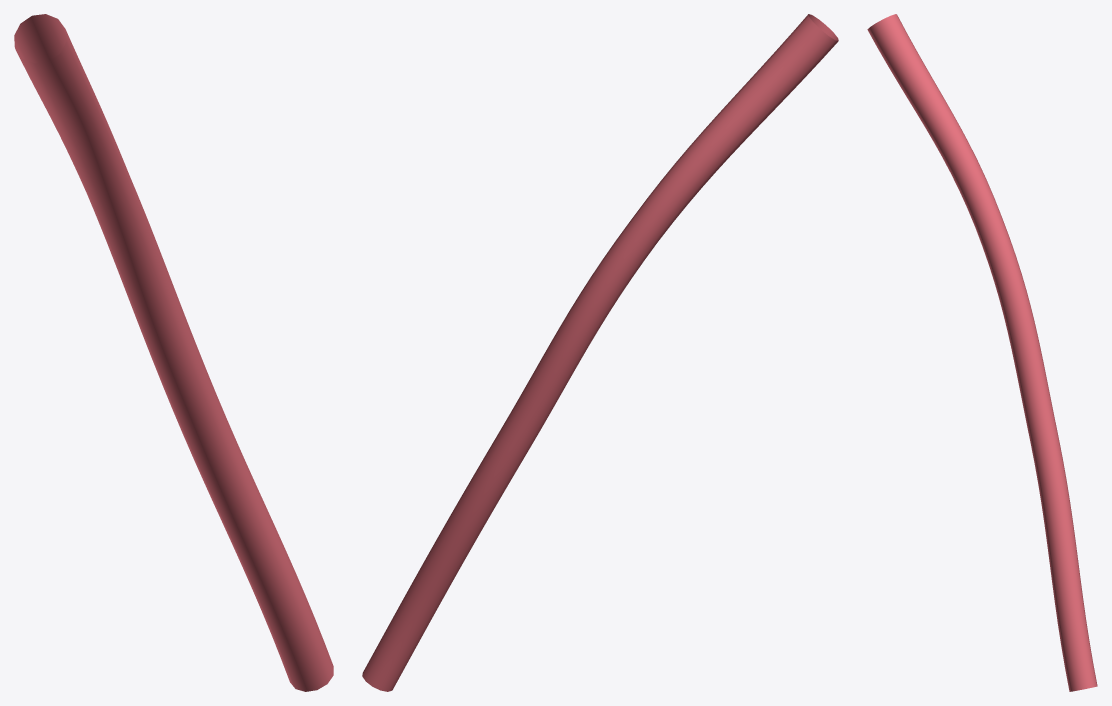
The picture shows the model from 3 angles, left to right: view 1: azimuth 30°, elevation 25°; view 2: azimuth 150°, elevation 25°; view 3: azimuth 270°, elevation 25°; orthographic projection. The views are drawn at different scales.
Parts seen in each view (by area): view 1: ZA_18201d6249bf31bc; view 2: ZA_18201d6249bf31bc; view 3: ZA_18201d6249bf31bc.
Part boxes in pixels (bbox=[...]): ZA_18201d6249bf31bc: bbox=[14, 14, 333, 691]; ZA_18201d6249bf31bc: bbox=[362, 14, 838, 691]; ZA_18201d6249bf31bc: bbox=[867, 14, 1097, 691].
Size of the model in its own units: 0.0351 by 0.063 by 0.0239.
